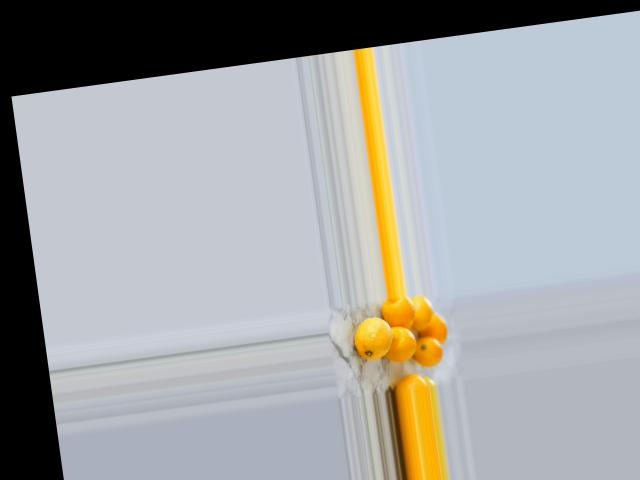lemon: (351, 310, 398, 367)
